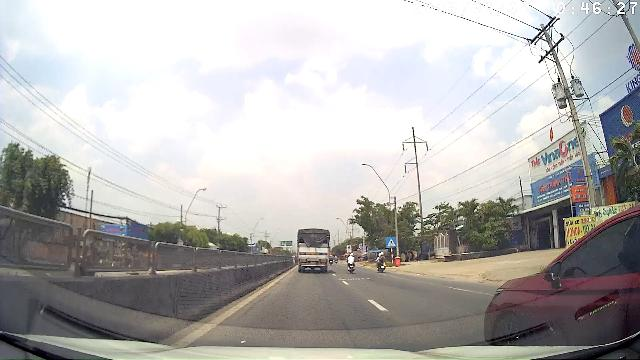423a-duong-nguoi-di-bo-sang-ngang-1: (386, 237, 396, 248)
